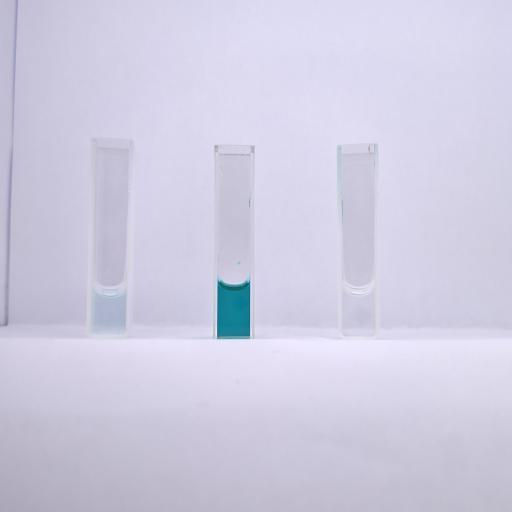cuvette: (86, 136, 136, 339), (335, 142, 382, 340), (211, 142, 256, 340)
liquid: (217, 282, 250, 336), (92, 282, 126, 334), (343, 285, 375, 335)
